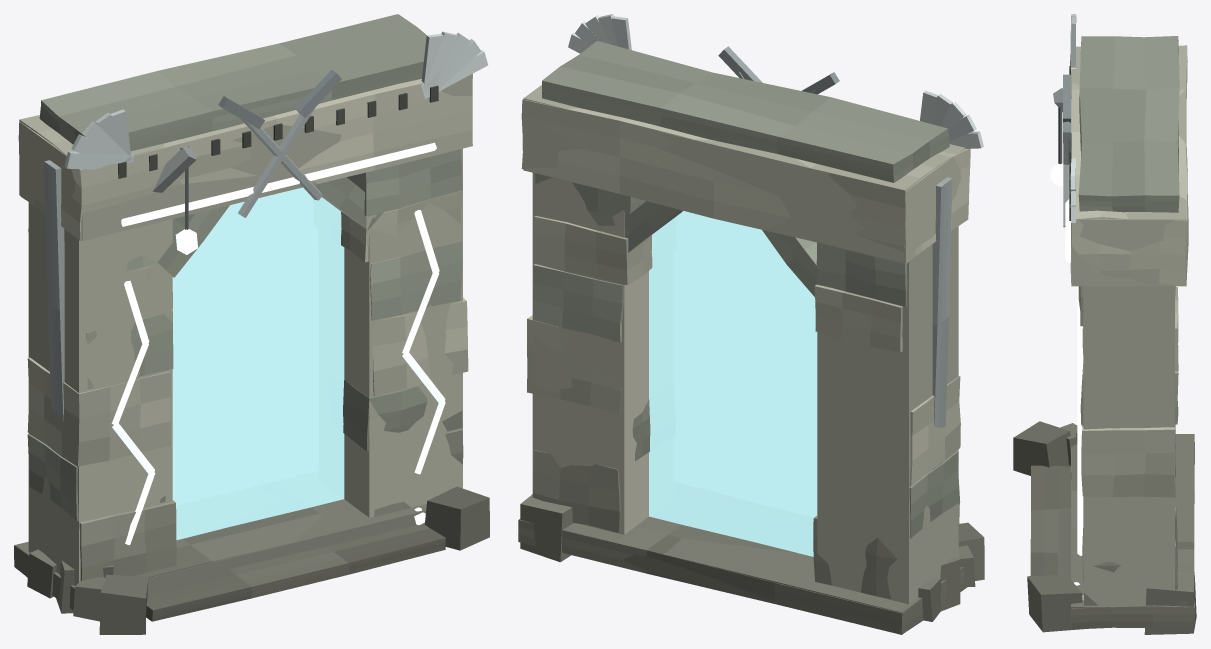
File: portal_sky.glb
3 renders of one model, left to right at view 1: azimuth 30°, elevation 25°; view 2: azimuth 150°, elevation 25°; view 3: azimuth 270°, elevation 25°, orthographic. The views are drawn at different scales.
Parts seen in each view (by area): view 1: Far_Body, Surface_Near, Surface_Far, Lintel, Base, Pillar_R, Pillar_L, Motif_GoldVein, Motif_Scaffold, Motif_CloudWings, Motif_Pick; view 2: Far_Body, Surface_Far, Surface_Near, Lintel, Pillar_R, Pillar_L, Base, Motif_Scaffold, Motif_CloudWings, Motif_Pick; view 3: Far_Body, Lintel, Base, Pillar_R, Motif_GoldVein, Motif_Pick, Motif_Scaffold, Motif_CloudWings.
Boxes of the visible parts, <box> form: Far_Body: <box>15,74,472,608</box>; Surface_Near: <box>172,187,344,539</box>; Surface_Far: <box>172,188,344,540</box>; Lintel: <box>18,14,472,277</box>; Base: <box>14,486,489,634</box>; Pillar_R: <box>341,149,468,516</box>; Pillar_L: <box>27,229,176,580</box>; Motif_GoldVein: <box>111,142,445,545</box>; Motif_Scaffold: <box>44,145,197,457</box>; Motif_CloudWings: <box>64,31,487,169</box>; Motif_Pick: <box>218,70,341,217</box>; Far_Body: <box>519,85,965,634</box>; Surface_Far: <box>649,211,817,556</box>; Surface_Near: <box>649,211,817,556</box>; Lintel: <box>521,41,970,296</box>; Pillar_R: <box>527,173,652,532</box>; Pillar_L: <box>813,242,960,598</box>; Base: <box>518,494,984,634</box>; Motif_Scaffold: <box>932,177,952,469</box>; Motif_CloudWings: <box>568,14,983,148</box>; Motif_Pick: <box>718,46,839,94</box>; Far_Body: <box>1071,46,1193,627</box>; Lintel: <box>1069,36,1188,286</box>; Base: <box>1013,421,1196,634</box>; Pillar_R: <box>1078,286,1178,605</box>; Motif_GoldVein: <box>1065,198,1083,555</box>; Motif_Pick: <box>1063,74,1071,227</box>; Motif_Scaffold: <box>1050,88,1063,186</box>; Motif_CloudWings: <box>1070,14,1076,222</box>.
Bounding box in the file's own units: 2.7 × 3.09 × 1.12.
